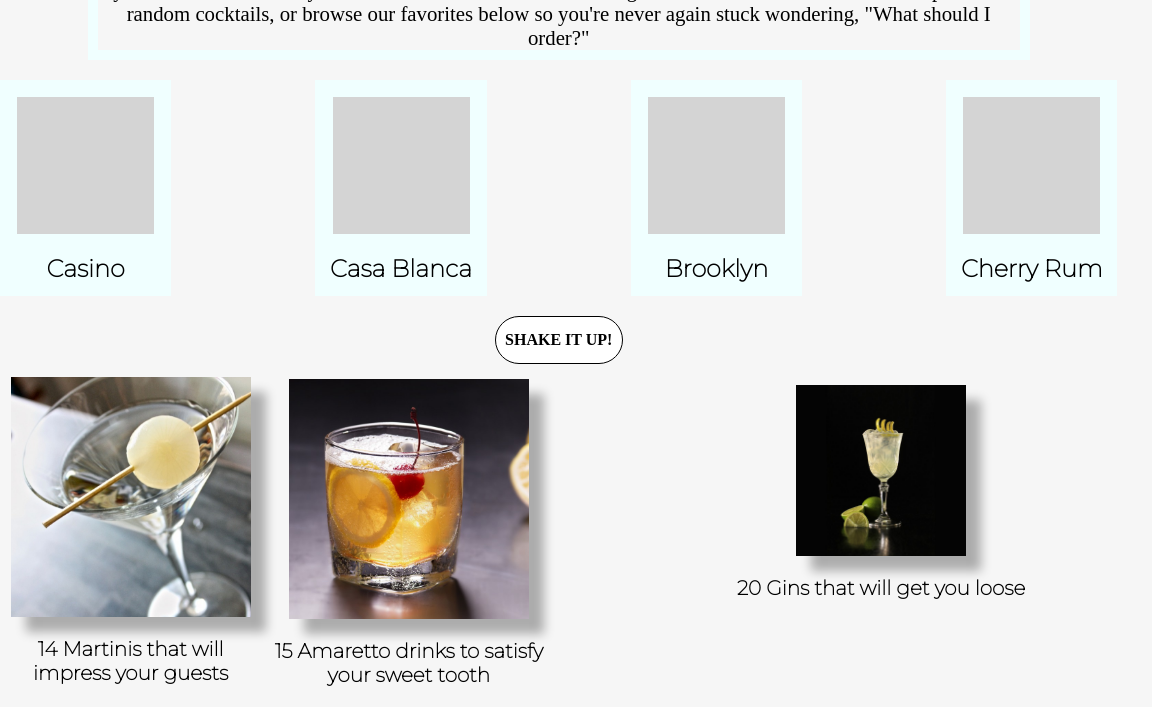
Scenario: App spec › should be able to click on the Amaretto drinks container and be routed to a new page
(page scrolled)
Click the element with class "amarettoButton" at (409, 536), box [261,364,556,706]
(page scrolled)
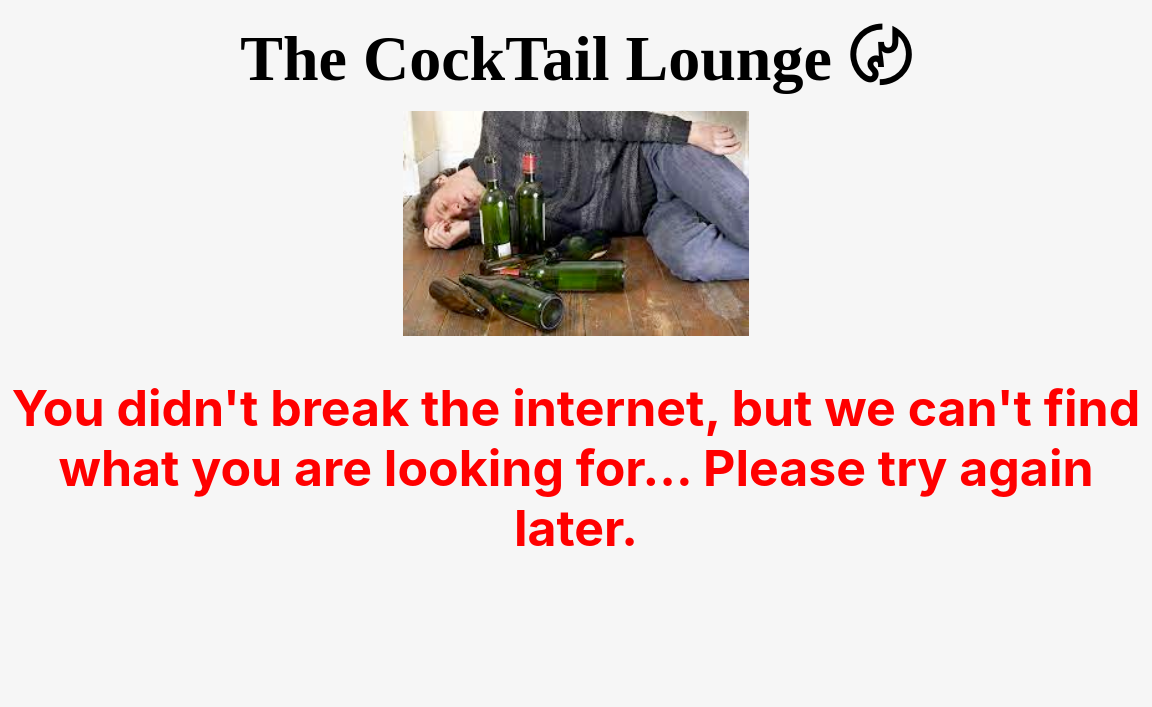
Result: the number of elements with class "AmarettoContainer" is 1
